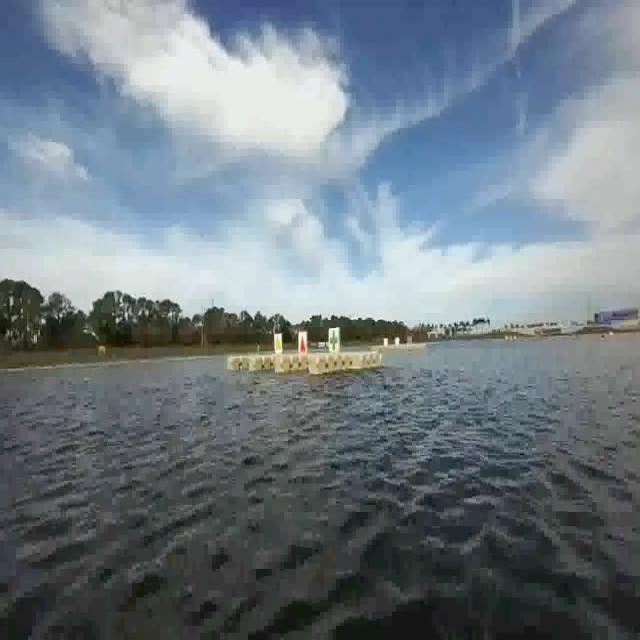blue-cross: (330, 329, 340, 356)
red-dot: (296, 328, 307, 357)
yellow-duck: (272, 336, 283, 358)
